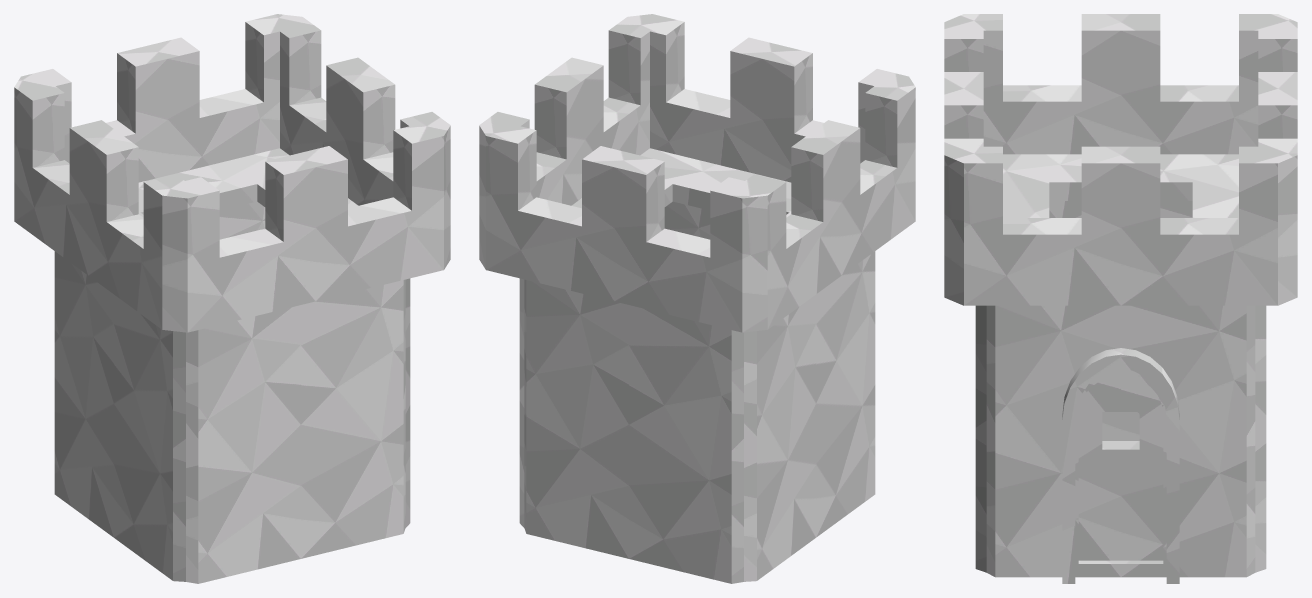
The model's file is rook-small-door-matte.obj.
3 views of the same model, side by side, from view 1: azimuth 30°, elevation 25°; view 2: azimuth 150°, elevation 25°; view 3: azimuth 270°, elevation 25° (orthographic). The views are drawn at different scales.
Parts seen in each view (by area): view 1: wall_straight_5, battlement_corner_6, battlement_corner_8, wall_straight_3, floor_hole_11, wall_doorwayRound_2, wall_straight_4; view 2: battlement_corner_8, wall_straight_4, battlement_corner_6, wall_straight_3, floor_hole_11, wall_doorwayRound_2, wall_straight_5; view 3: wall_doorwayRound_2, battlement_corner_6, battlement_corner_8, door_round_12, floor_hole_11, wall_straight_4, wall_straight_5, wall_straight_3.
Part boxes in pixels (x1,y1,x2,y2): wall_straight_5: (186, 279, 405, 583); battlement_corner_6: (162, 14, 450, 332); battlement_corner_8: (14, 14, 301, 329); wall_straight_3: (54, 251, 185, 581); floor_hole_11: (14, 148, 450, 332); wall_doorwayRound_2: (405, 278, 410, 527); wall_straight_4: (219, 201, 265, 239); battlement_corner_8: (480, 76, 915, 332); wall_straight_4: (524, 279, 743, 583); battlement_corner_6: (479, 14, 915, 269); wall_straight_3: (744, 251, 875, 581); floor_hole_11: (479, 148, 915, 332); wall_doorwayRound_2: (519, 278, 524, 527); wall_straight_5: (664, 201, 710, 239); wall_doorwayRound_2: (986, 305, 1255, 583); battlement_corner_6: (944, 14, 1297, 305); battlement_corner_8: (945, 14, 1297, 162); door_round_12: (1075, 369, 1166, 577); floor_hole_11: (944, 154, 1297, 305); wall_straight_4: (1255, 305, 1266, 572); wall_straight_5: (975, 305, 986, 572); wall_straight_3: (1049, 201, 1192, 440).
Size of the model in its own units: 1.12 by 1.5 by 1.12.
Materials: 1 (1 with a texture image).
